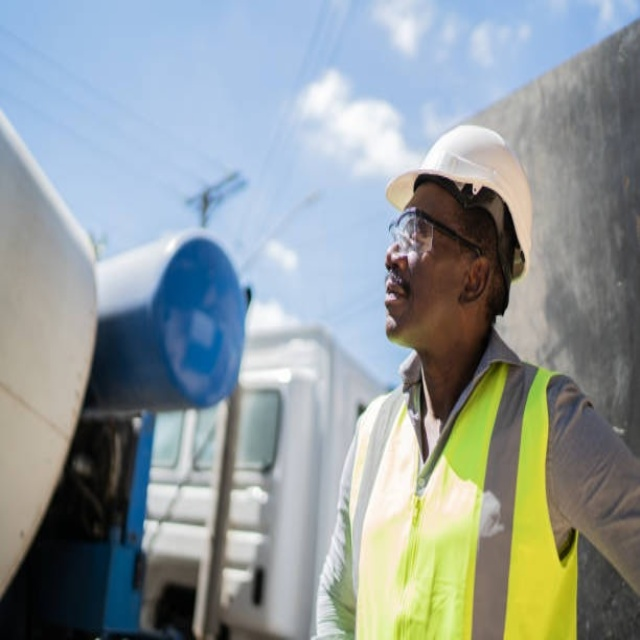Gafas: (388, 208, 485, 260)
Sin_mascara: (382, 265, 418, 339)
